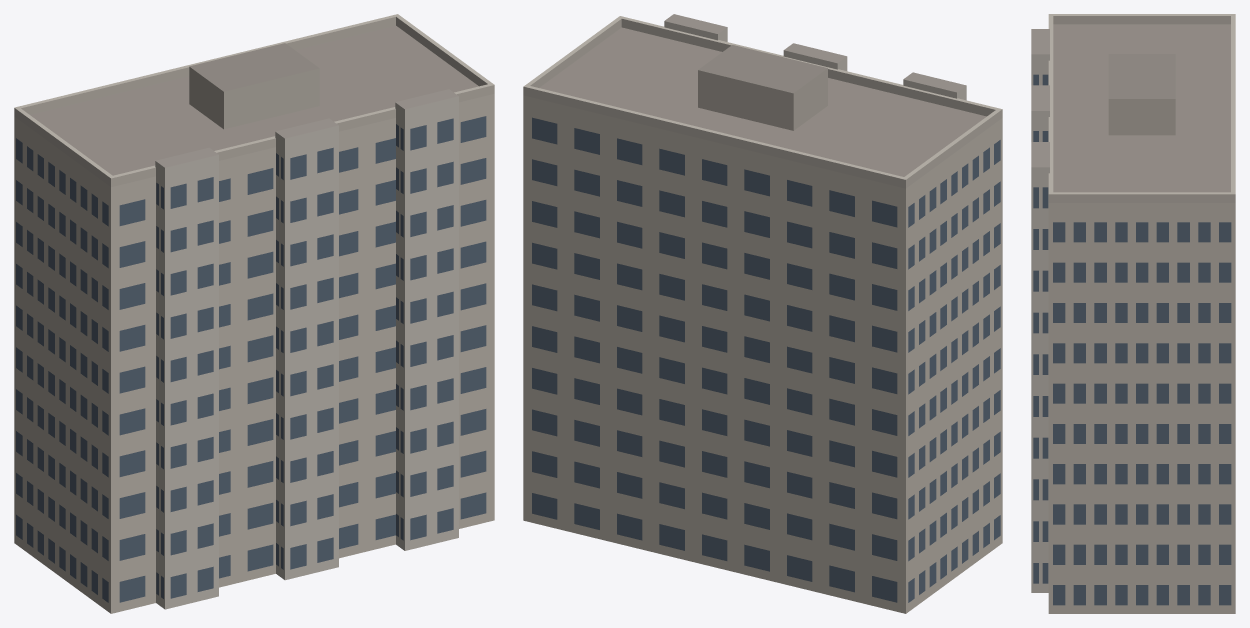
File: highrise_05_bay_residential.glb
The picture shows the model from 3 angles, left to right: view 1: azimuth 30°, elevation 25°; view 2: azimuth 150°, elevation 25°; view 3: azimuth 270°, elevation 25°; orthographic projection. The views are drawn at different scales.
Visible parts, largest first — view 1: highrise_05_bay_residential; view 2: highrise_05_bay_residential; view 3: highrise_05_bay_residential.
Boxes of the visible parts, <box> form: highrise_05_bay_residential: <box>14,14,494,613</box>; highrise_05_bay_residential: <box>523,14,1002,613</box>; highrise_05_bay_residential: <box>1031,14,1235,613</box>.
Size of the model in its own units: 32.03 by 37 by 15.33.
